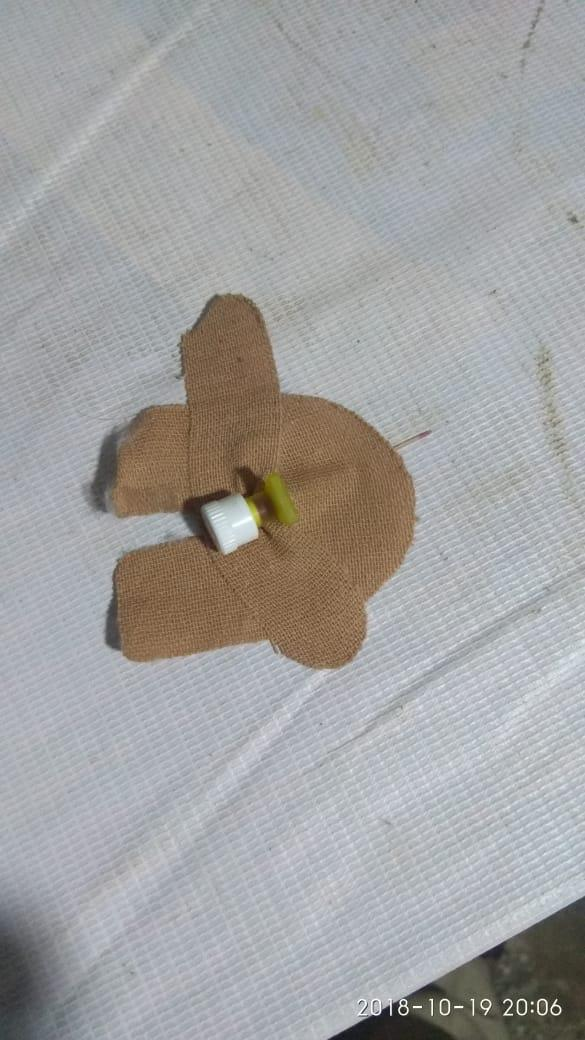waste: (84, 304, 454, 740)
